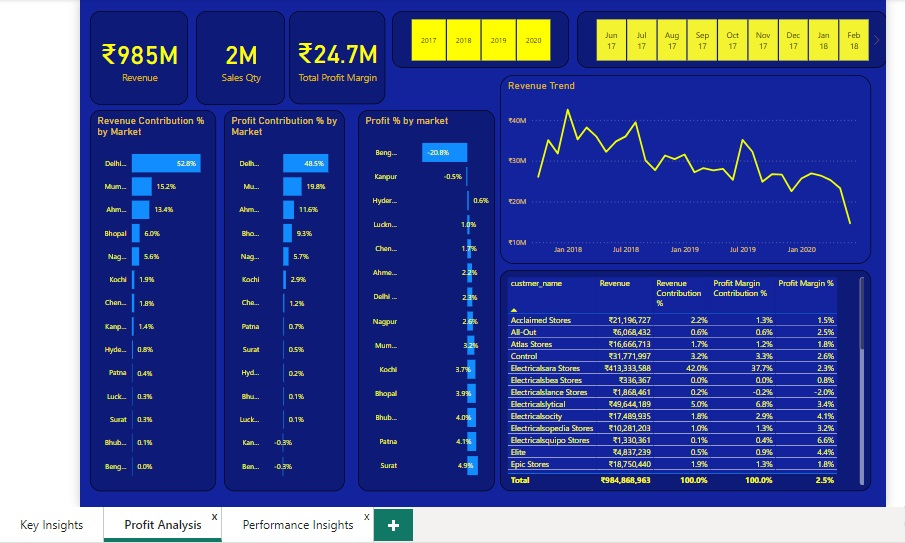

The dashboard page shown, as its layout file describes it:
{"tool":"powerbi","page":{"name":"Profit Analysis","canvas":[1350,850],"ordinal":1},"visuals":[{"type":"card","fields":{"Values":["BaseMeasures (2).Revenue"]},"box":[16.7,20.1,164,157.3],"z":0},{"type":"card","fields":{"Values":["BaseMeasures (2).Sales Qty"]},"box":[194.1,20.1,148.9,157.3],"z":1000},{"type":"barChart","title":"Profit % by market","fields":{"Y":["BaseMeasures (2).Profit Margin %"],"Category":["sales markets.markets_name"]},"box":[465.2,185.7,229.2,637.5],"z":2000},{"type":"barChart","title":"Profit Contribution % by Market","fields":{"Y":["BaseMeasures (2).Profit Margin Contribution %"],"Category":["sales markets.markets_name"]},"box":[240.9,185.7,202.5,637.5],"z":3000},{"type":"slicer","fields":{"Values":["sales date.year"]},"box":[522,20.1,296.2,95.4],"z":4000},{"type":"slicer","fields":{"Values":["sales date.cy_date"]},"box":[831.6,20.1,518.7,95.4],"z":5000},{"type":"tableEx","title":"Top 5 Customers","fields":{"Values":["sales customers.custmer_name","BaseMeasures (2).Revenue","BaseMeasures (2).Revenue Contribution %","BaseMeasures (2).Profit Margin Contribution %","BaseMeasures (2).Profit Margin %"]},"box":[702.8,453.4,620.8,369.8],"z":6000},{"type":"lineChart","title":"Revenue Trend","fields":{"Y":["BaseMeasures (2).Revenue"],"Category":["sales date.cy_date"]},"box":[702.8,127.2,620.8,316.2],"z":7000},{"type":"card","fields":{"Values":["BaseMeasures (2).Total Profit Margin"]},"box":[349.7,20.1,160.6,155.6],"z":8000},{"type":"barChart","title":"Revenue Contribution % by Market","fields":{"Y":["BaseMeasures (2).Revenue Contribution %"],"Category":["sales markets.markets_name"]},"box":[16.7,185.7,210.8,637.5],"z":9000}]}

Visuals, with their boxes on the page's 1350x850 design canvas (x1, y1, x2, y2). These are canvas units, not pixel positions in the 905x543 screenshot, which may show the page scaled, cropped or inside an application window:
card - BaseMeasures (2).Revenue: {"left": 17, "top": 20, "right": 181, "bottom": 177}
card - BaseMeasures (2).Sales Qty: {"left": 194, "top": 20, "right": 343, "bottom": 177}
"Profit % by market" barChart: {"left": 465, "top": 186, "right": 694, "bottom": 823}
"Profit Contribution % by Market" barChart: {"left": 241, "top": 186, "right": 443, "bottom": 823}
slicer - sales date.year: {"left": 522, "top": 20, "right": 818, "bottom": 116}
slicer - sales date.cy_date: {"left": 832, "top": 20, "right": 1350, "bottom": 116}
"Top 5 Customers" tableEx: {"left": 703, "top": 453, "right": 1324, "bottom": 823}
"Revenue Trend" lineChart: {"left": 703, "top": 127, "right": 1324, "bottom": 443}
card - BaseMeasures (2).Total Profit Margin: {"left": 350, "top": 20, "right": 510, "bottom": 176}
"Revenue Contribution % by Market" barChart: {"left": 17, "top": 186, "right": 228, "bottom": 823}
